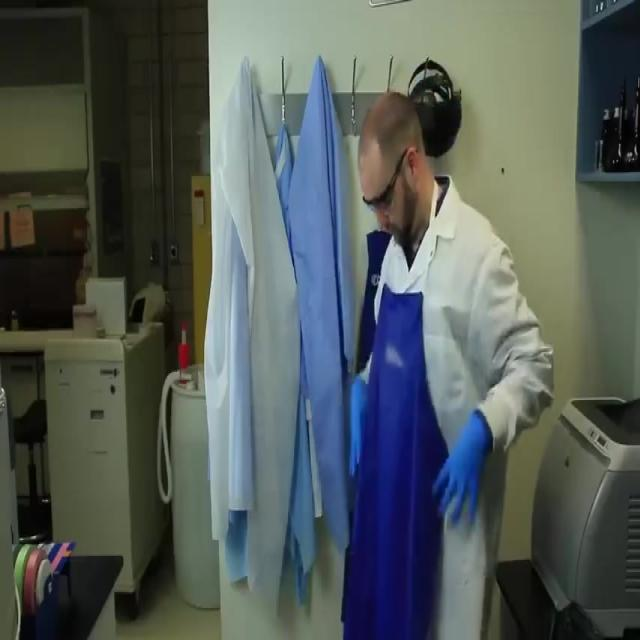googles: (360, 185, 394, 218)
labcoat: (361, 174, 554, 640), (200, 57, 302, 615)
